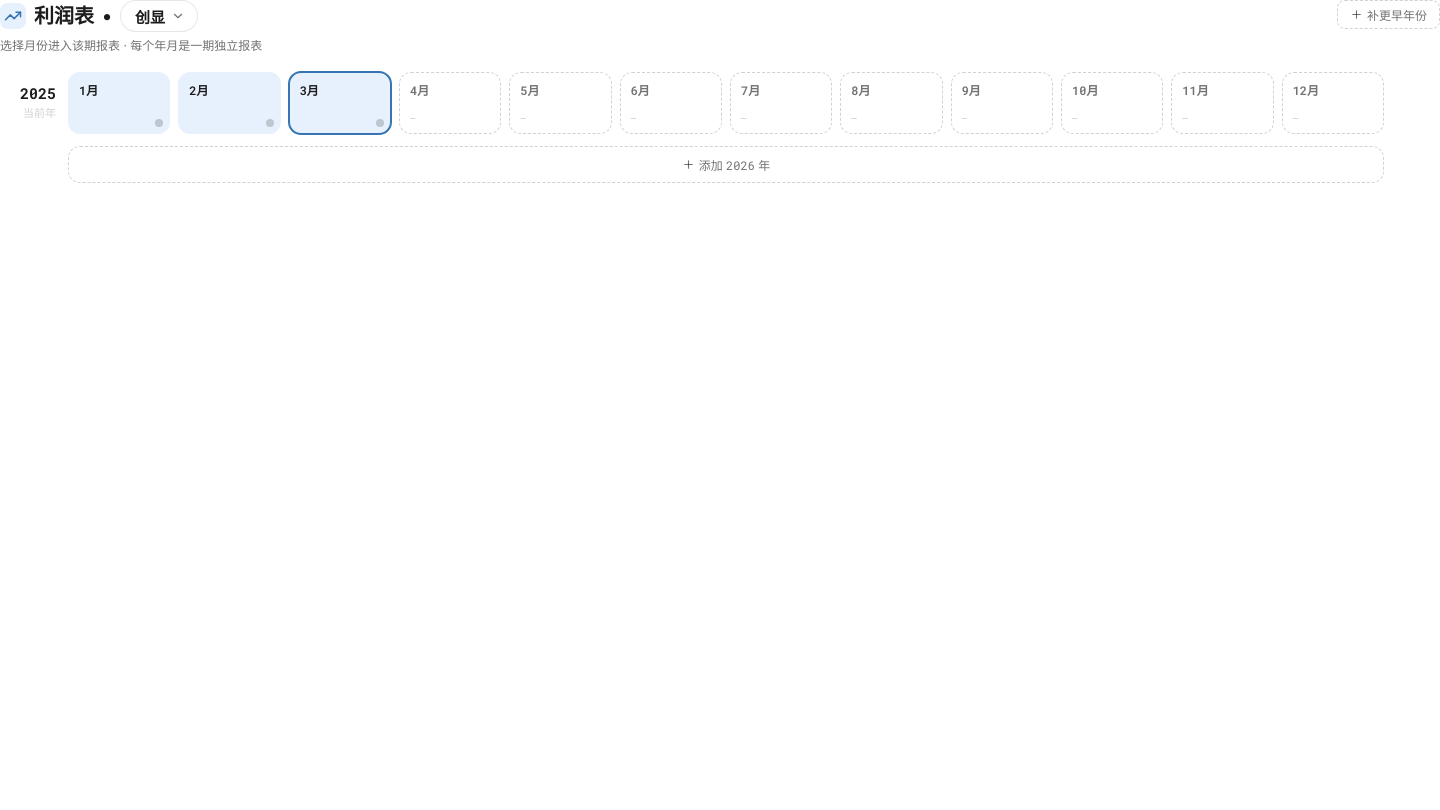
Scenario: 利润表 · 表体 › ❗「其中」父项是分组行「营业税金及附加 其中 6 项」,默认收起;「其中：」那条信息行不画
This screenshot has width=1440, height=810.
Click the button with class "bmm-card" showing "1月": (119, 103) [68,72,170,134]
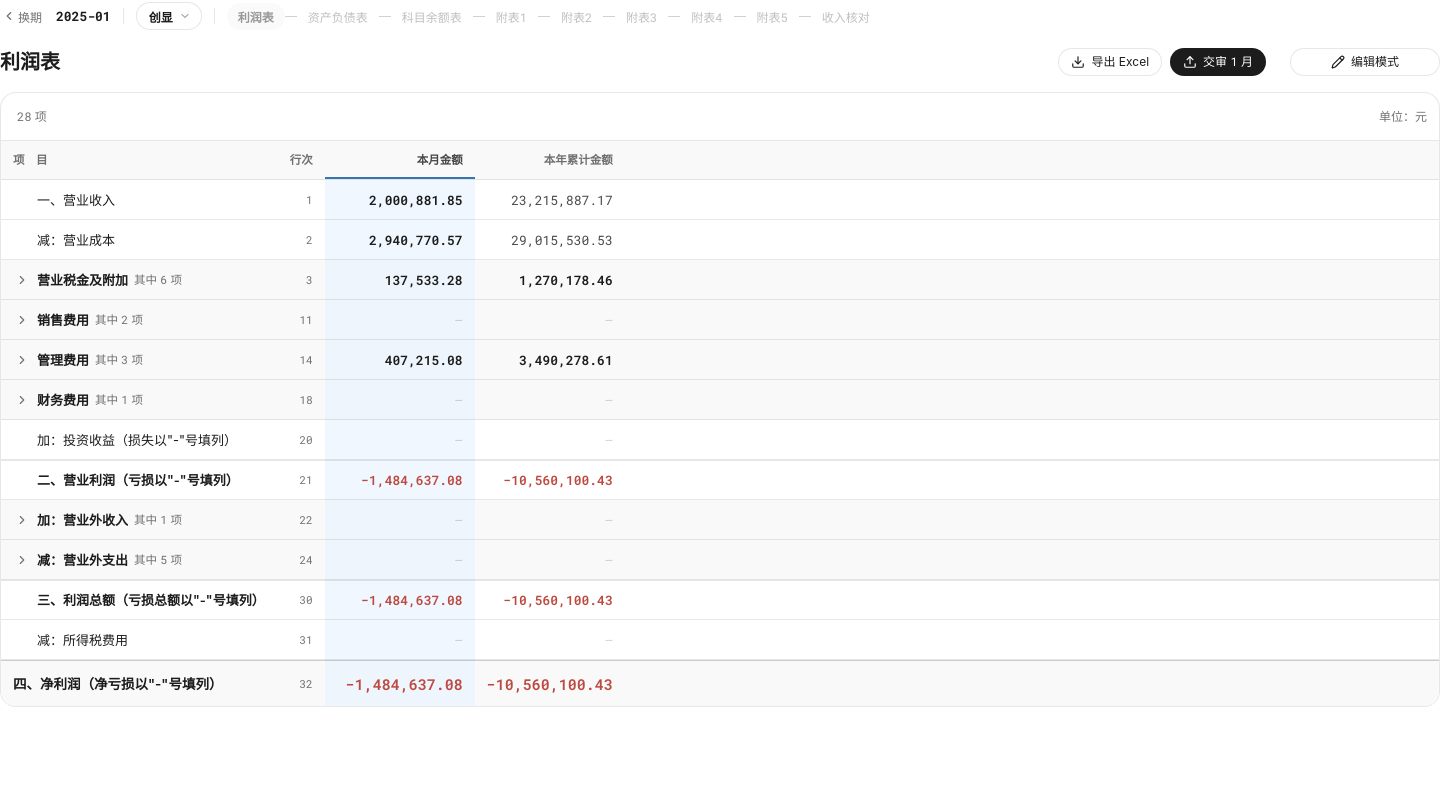
Expected: the text "城市维护建设税" is not shown
Result: the text with class "fin-tagt" reads "其中 6 项" at [134,272,182,286]
Click the button with class "fin-caret" next to "营业税金及附加": (22, 280) [13,270,31,288]
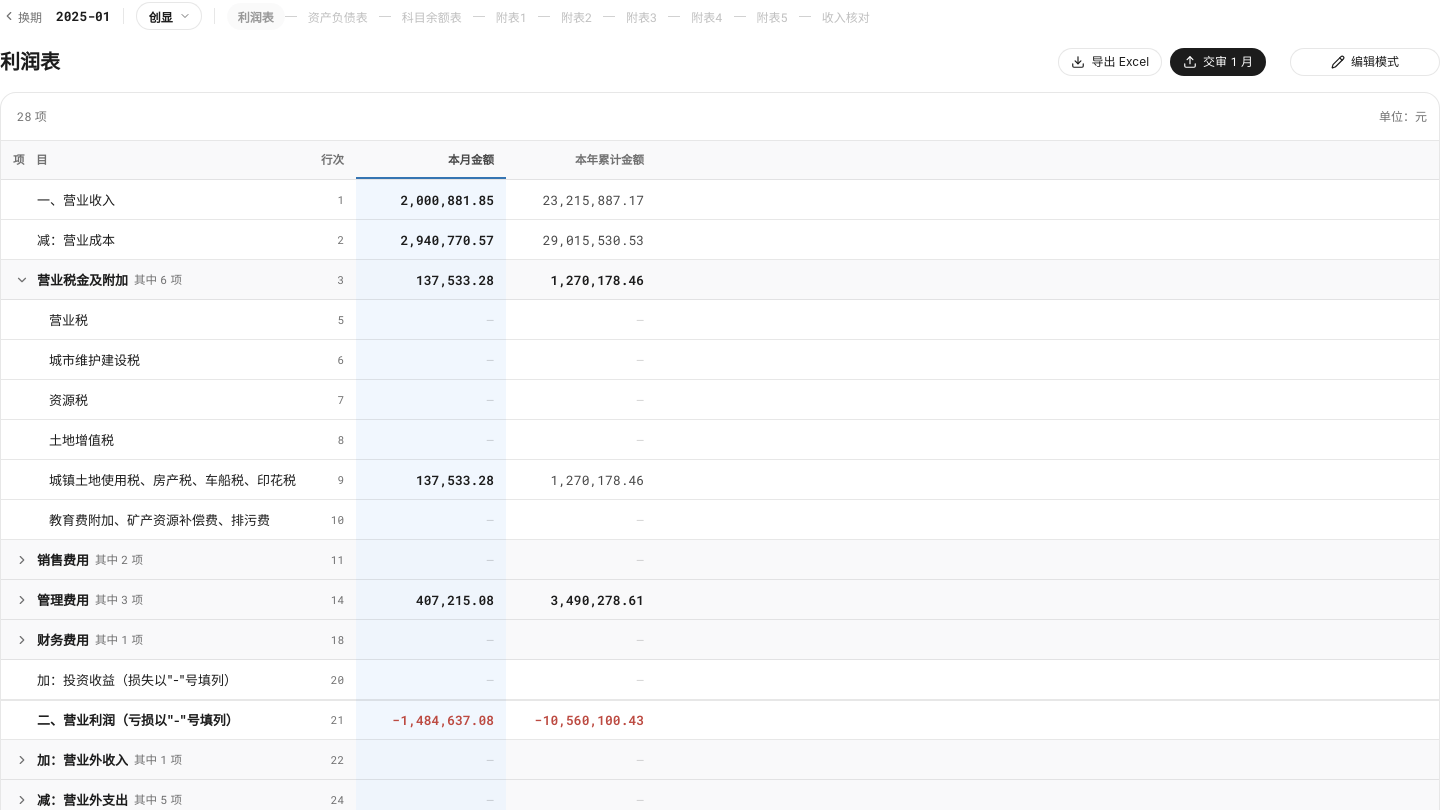
Result: the text "城市维护建设税" is shown at [49,350,140,370]
